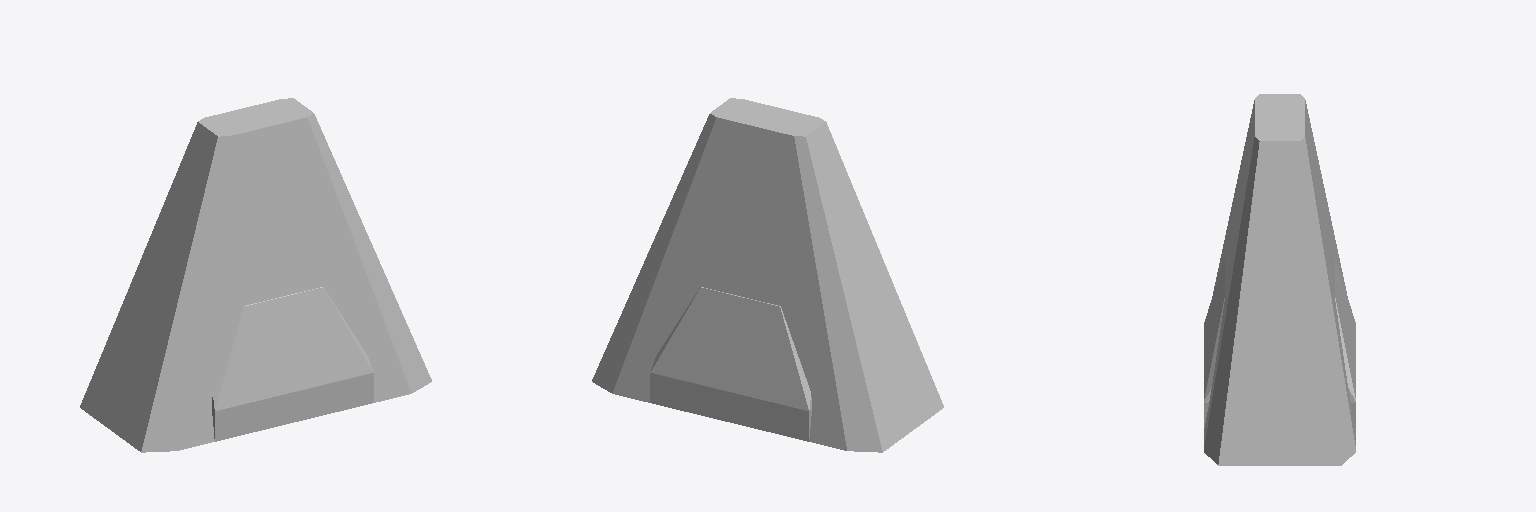
The model's file is Onigiri.obj.
The picture shows the model from 3 angles: view 1: azimuth 30°, elevation 25°; view 2: azimuth 150°, elevation 25°; view 3: azimuth 270°, elevation 25°; orthographic projection.
Parts seen in each view (by area): view 1: plane_cockpitNose%_89, ship_frontEdge_94; view 2: plane_cockpitNose%_89, ship_frontEdge_97; view 3: plane_cockpitNose%_89, ship_frontEdge_94, ship_frontEdge_97.
Boxes of the visible parts, x1=… form: plane_cockpitNose%_89: x1=80, y1=98, x2=431, y2=452; ship_frontEdge_94: x1=212, y1=287, x2=373, y2=441; plane_cockpitNose%_89: x1=592, y1=98, x2=943, y2=452; ship_frontEdge_97: x1=650, y1=287, x2=811, y2=441; plane_cockpitNose%_89: x1=1204, y1=94, x2=1355, y2=465; ship_frontEdge_94: x1=1204, y1=258, x2=1224, y2=427; ship_frontEdge_97: x1=1335, y1=258, x2=1355, y2=427.
Size of the model in its own units: 2.2 by 2 by 1.